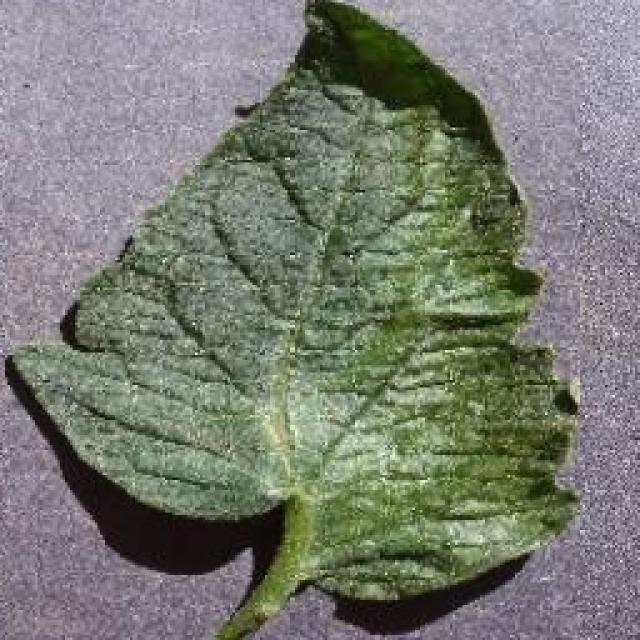Healthy: (5, 0, 580, 640)
